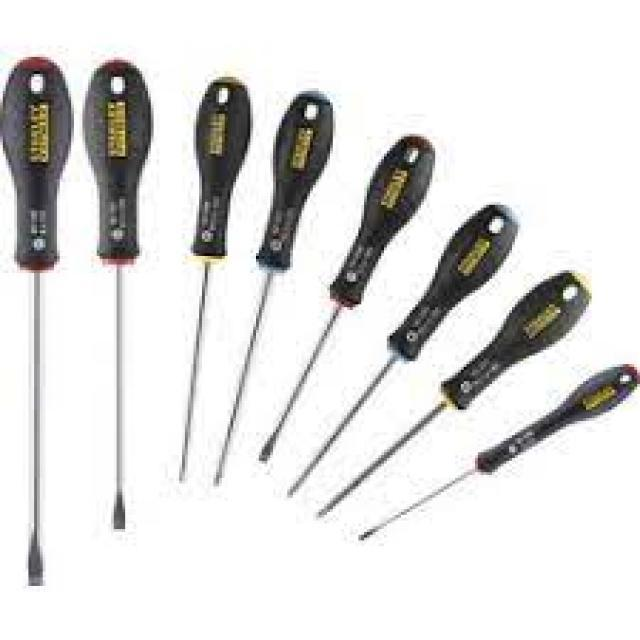screwdriver: (280, 201, 522, 502), (312, 267, 594, 518), (253, 134, 435, 464), (350, 362, 640, 544), (210, 90, 336, 488), (78, 54, 166, 535), (0, 52, 77, 590), (168, 72, 254, 488)
